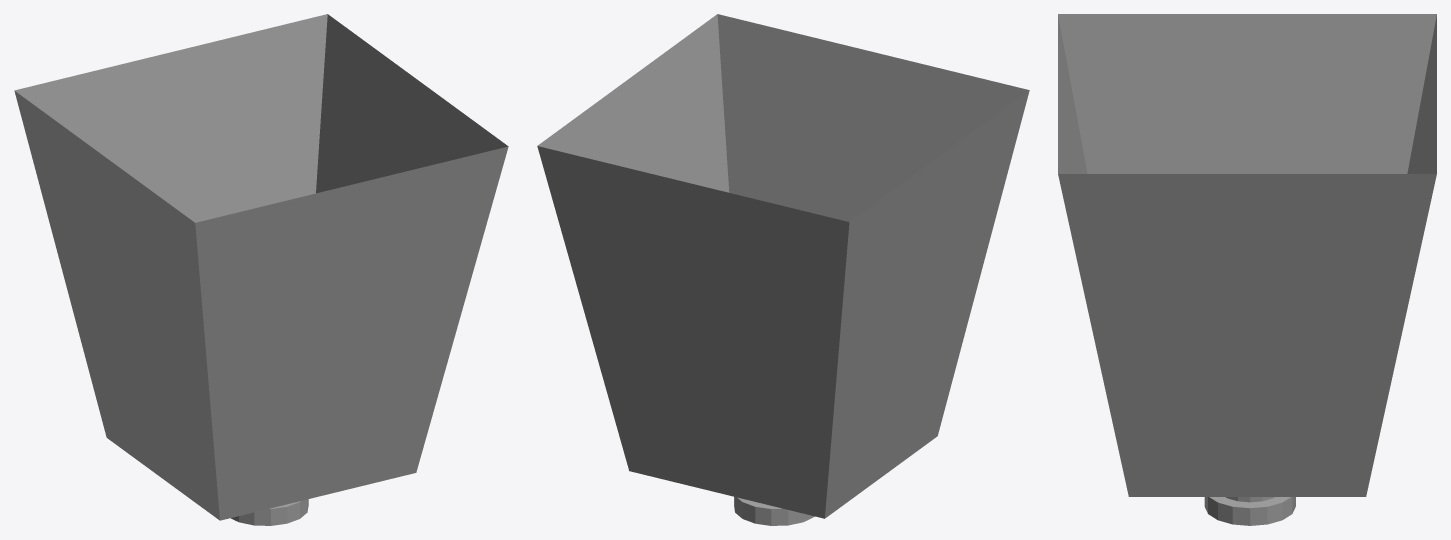
Rendered from LamppostGlas.obj.
3 renders of one model, left to right at view 1: azimuth 30°, elevation 25°; view 2: azimuth 150°, elevation 25°; view 3: azimuth 270°, elevation 25°, orthographic. The views are drawn at different scales.
Parts seen in each view (by area): view 1: cage.001, bulb; view 2: cage.001, bulb; view 3: cage.001, bulb.
Boxes of the visible parts, x1,y1,x2,y2 form: cage.001: [14, 14, 508, 520]; bulb: [231, 499, 308, 525]; cage.001: [537, 14, 1029, 518]; bulb: [734, 496, 814, 525]; cage.001: [1058, 14, 1436, 496]; bulb: [1204, 497, 1295, 525].
Bounding box in the file's own units: 0.734 × 0.8762 × 0.734.
Materials: 1 (1 with a texture image).
